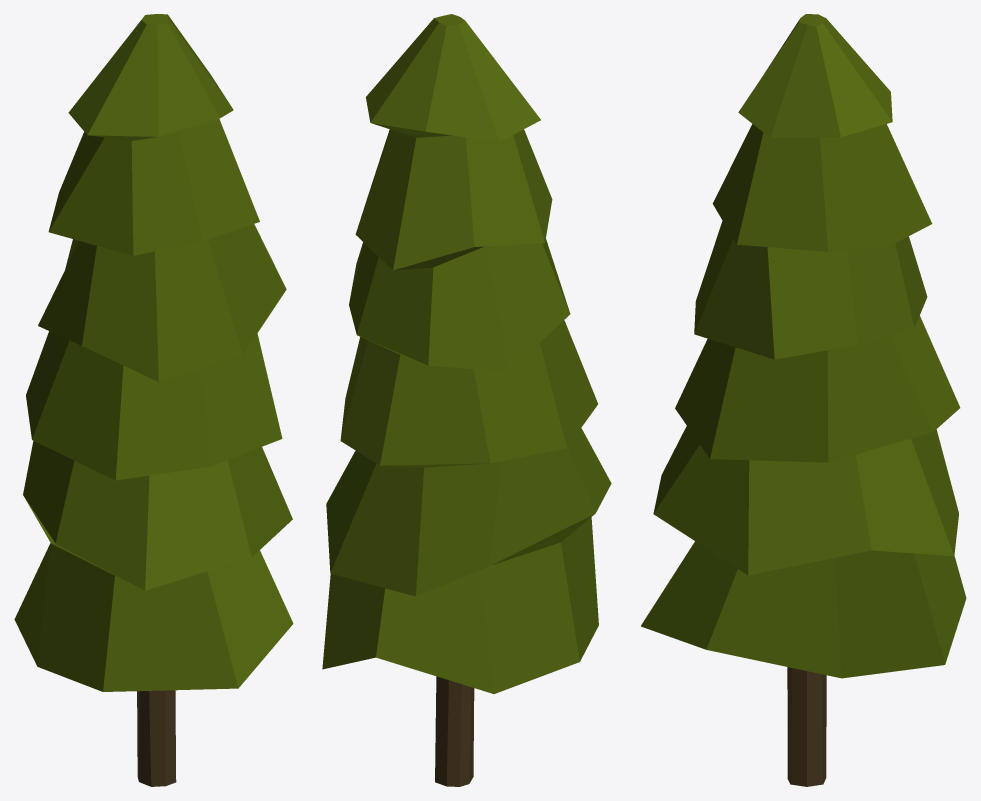
Rendered from Tree_pine_1.fbx.
3 views of the same model, side by side, from view 1: azimuth 30°, elevation 25°; view 2: azimuth 150°, elevation 25°; view 3: azimuth 270°, elevation 25° (orthographic).
Visible parts, largest first — view 1: Tree_pine_1; view 2: Tree_pine_1; view 3: Tree_pine_1.
Boxes of the visible parts, left/top/right/bottom form: Tree_pine_1: left=14, top=14, right=293, bottom=786; Tree_pine_1: left=322, top=14, right=611, bottom=786; Tree_pine_1: left=641, top=14, right=966, bottom=786.
Bounding box in the file's own units: 0.1664 × 0.5104 × 0.1984.
